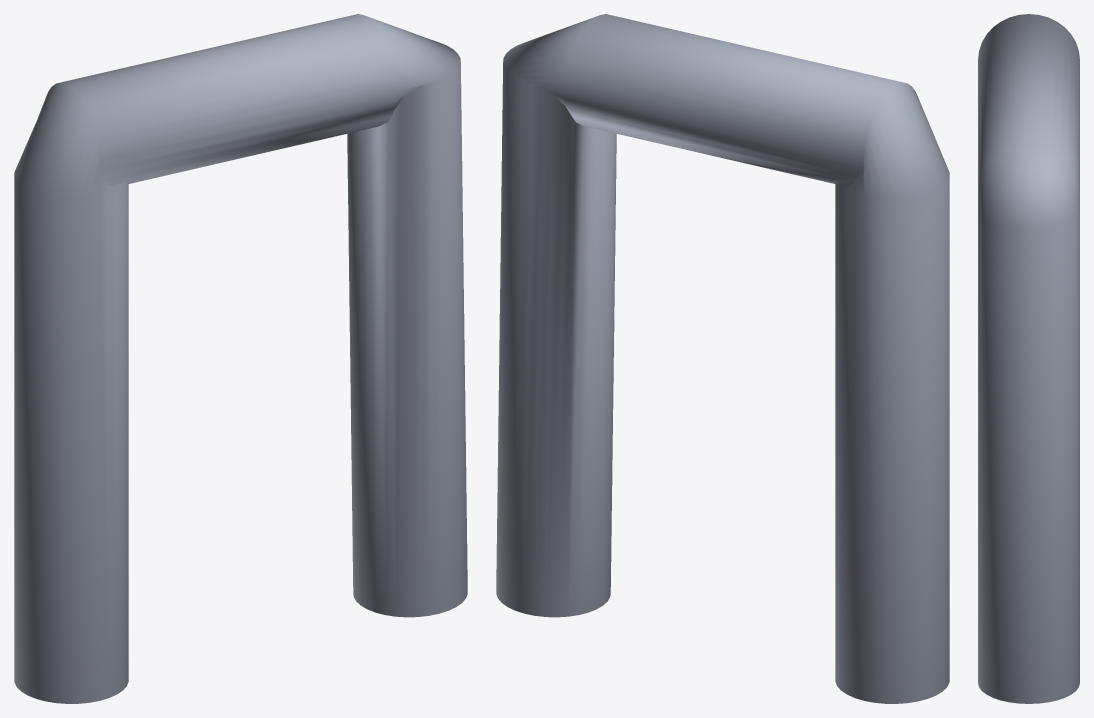
Rendered from fietsenrek.fbx.
3 views of the same model, side by side, from view 1: azimuth 30°, elevation 25°; view 2: azimuth 150°, elevation 25°; view 3: azimuth 270°, elevation 25° (orthographic). The views are drawn at different scales.
Visible parts, largest first — view 1: Cylinder; view 2: Cylinder; view 3: Cylinder.
Part boxes in pixels (x1,y1,x2,y2): Cylinder: [14, 14, 467, 703]; Cylinder: [496, 14, 949, 703]; Cylinder: [978, 14, 1079, 703].
Bounding box in the file's own units: 405 × 524 × 91.93.
